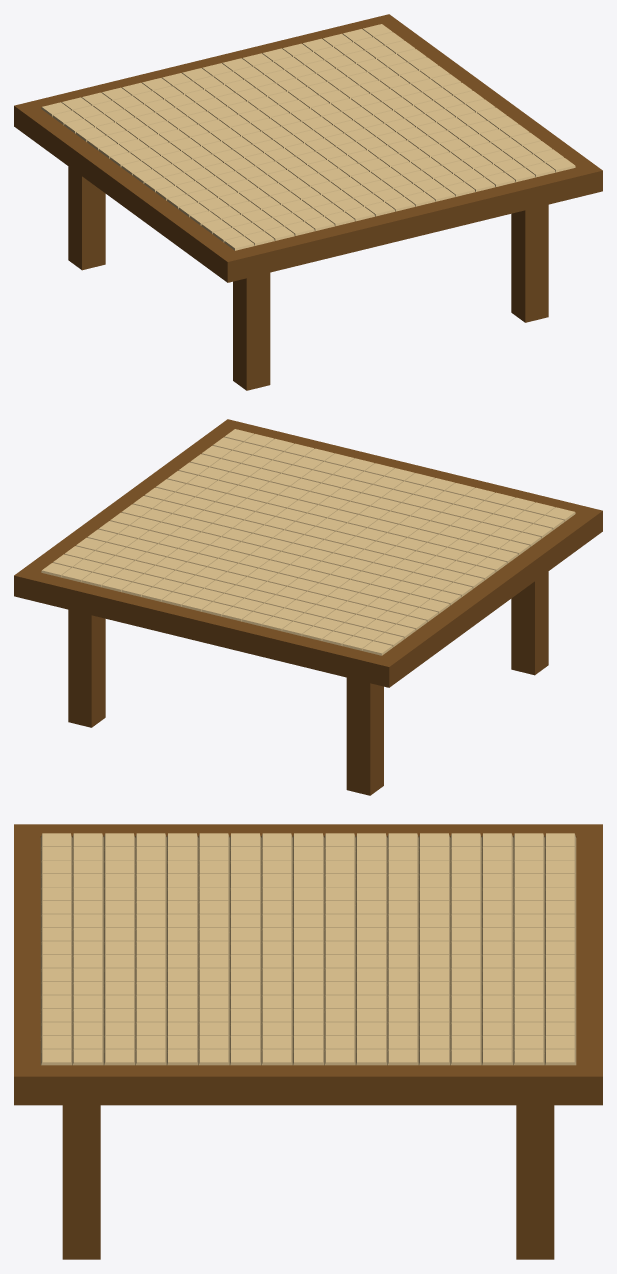
Rendered from gridtable5_6.fbx.
3 views of the same model, one above another, from view 1: azimuth 30°, elevation 25°; view 2: azimuth 150°, elevation 25°; view 3: azimuth 270°, elevation 25° (orthographic). The views are drawn at different scales.
Parts seen in each view (by area): view 1: Cube.022; view 2: Cube.022; view 3: Cube.022.
Boxes of the visible parts, left/top/right/bottom form: Cube.022: left=14, top=14, right=602, bottom=390; Cube.022: left=14, top=419, right=602, bottom=795; Cube.022: left=14, top=824, right=602, bottom=1259.
Size of the model in its own units: 260 by 102 by 263.
